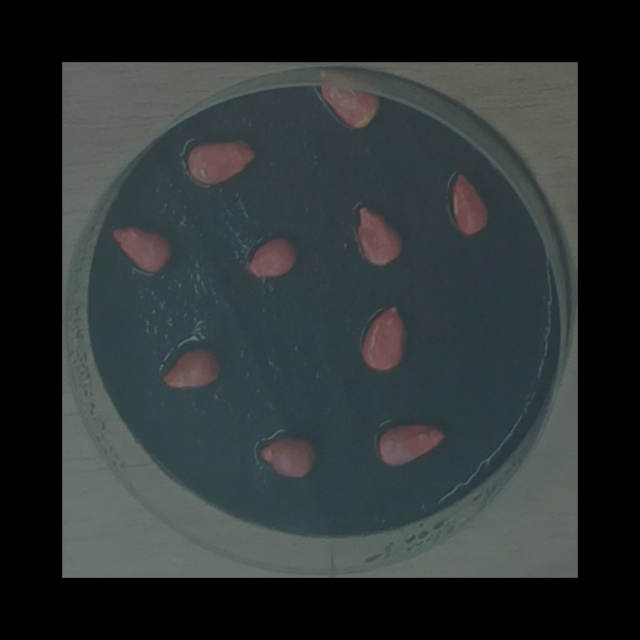Zea mays: (314, 63, 386, 134), (179, 133, 260, 190), (371, 416, 451, 472), (106, 220, 176, 278), (357, 299, 411, 374), (352, 199, 409, 270), (444, 165, 494, 240), (157, 340, 224, 394), (253, 430, 321, 483), (241, 231, 301, 283)
